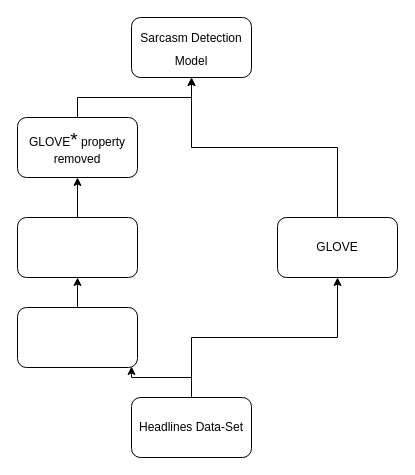
Image size: 415x475. Some labels were removed from this diagram. The shapes that lost their labels are listed below. From the top down, each one's centre as x and y in pixels, then its label:
[77,247]: INLP
[77,337]: Word-POS Data-Set
